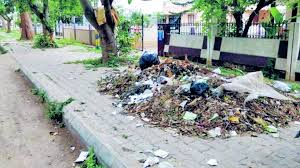garbage: (147, 73, 293, 127), (121, 57, 227, 117)
